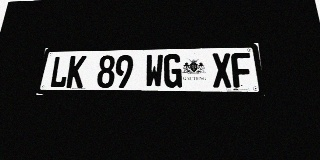8: (96, 55, 116, 88)
9: (114, 55, 134, 88)
F: (231, 53, 253, 88)
G: (163, 54, 182, 88)
K: (66, 56, 87, 88)
L: (49, 56, 70, 88)
W: (145, 54, 163, 88)
X: (211, 53, 233, 88)
